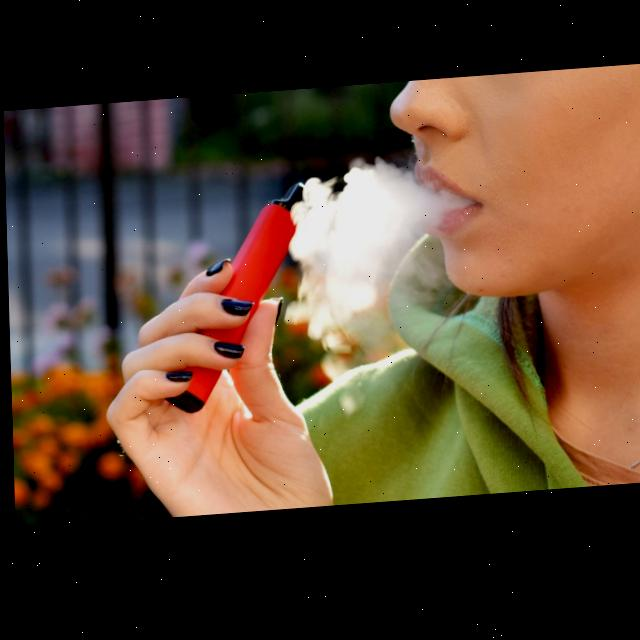vape: (158, 185, 311, 418)
